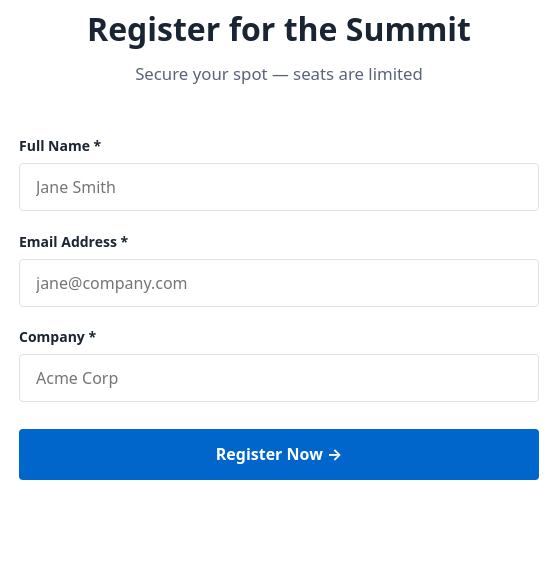
Registration › shows all three validation errors on empty submit
Click the button "Register Now →": (279, 454) [19, 429, 539, 480]
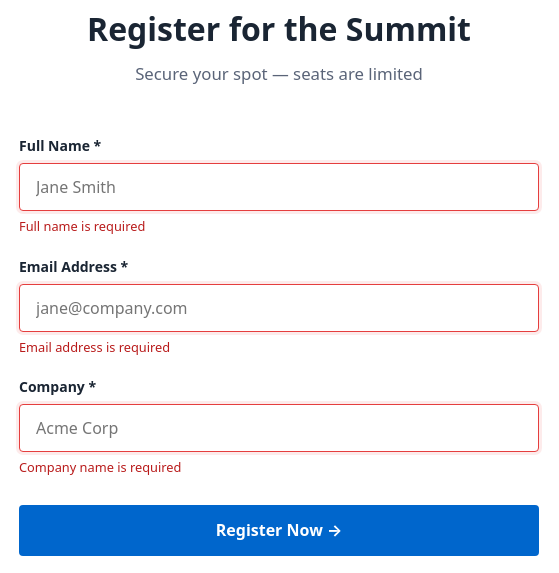
Result: the text "Full name is required" is shown at [19, 217, 145, 235]
Result: the text "Email address is required" is shown at [19, 338, 170, 356]
Result: the text "Company name is required" is shown at [19, 458, 181, 476]
